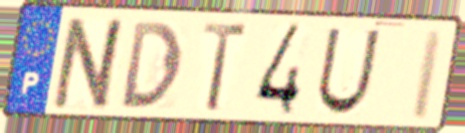4: (252, 21, 304, 120)
D: (119, 19, 184, 111)
I: (407, 26, 448, 123)
N: (48, 15, 132, 113)
T: (199, 20, 252, 115)
U: (313, 25, 384, 118)
